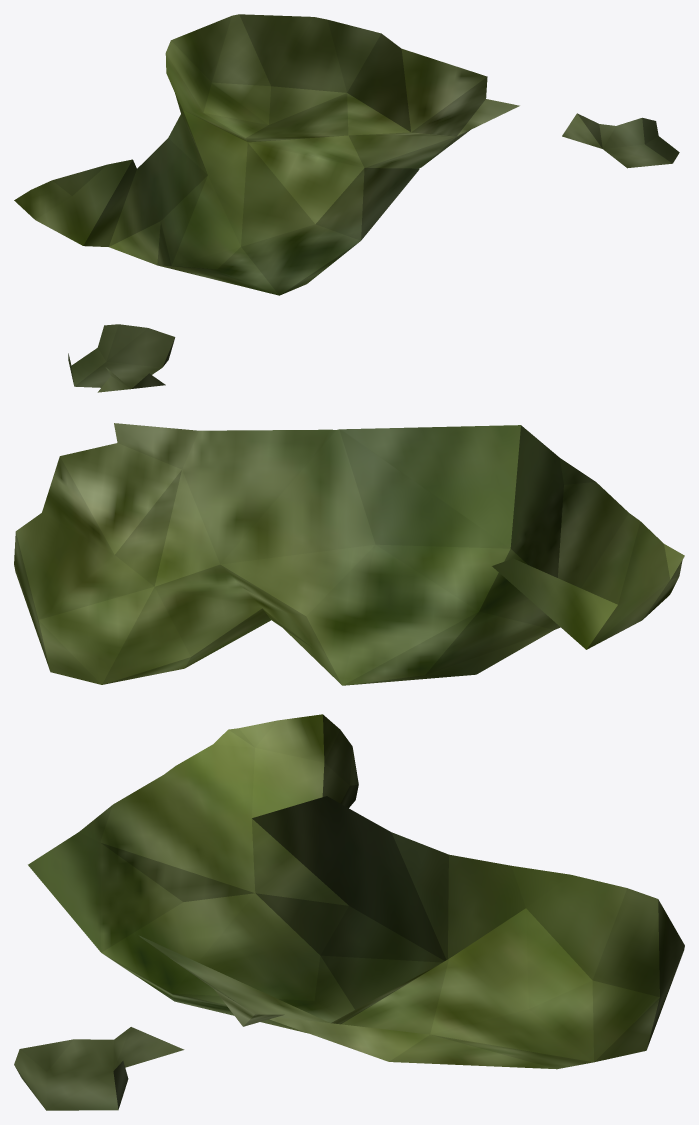
The picture shows the model from 3 angles, top to bottom: view 1: azimuth 30°, elevation 25°; view 2: azimuth 150°, elevation 25°; view 3: azimuth 270°, elevation 25°; orthographic projection. The views are drawn at different scales.
Size of the model in its own units: 0.9857 by 0.2001 by 0.7571.
1 material, 1 textured.
